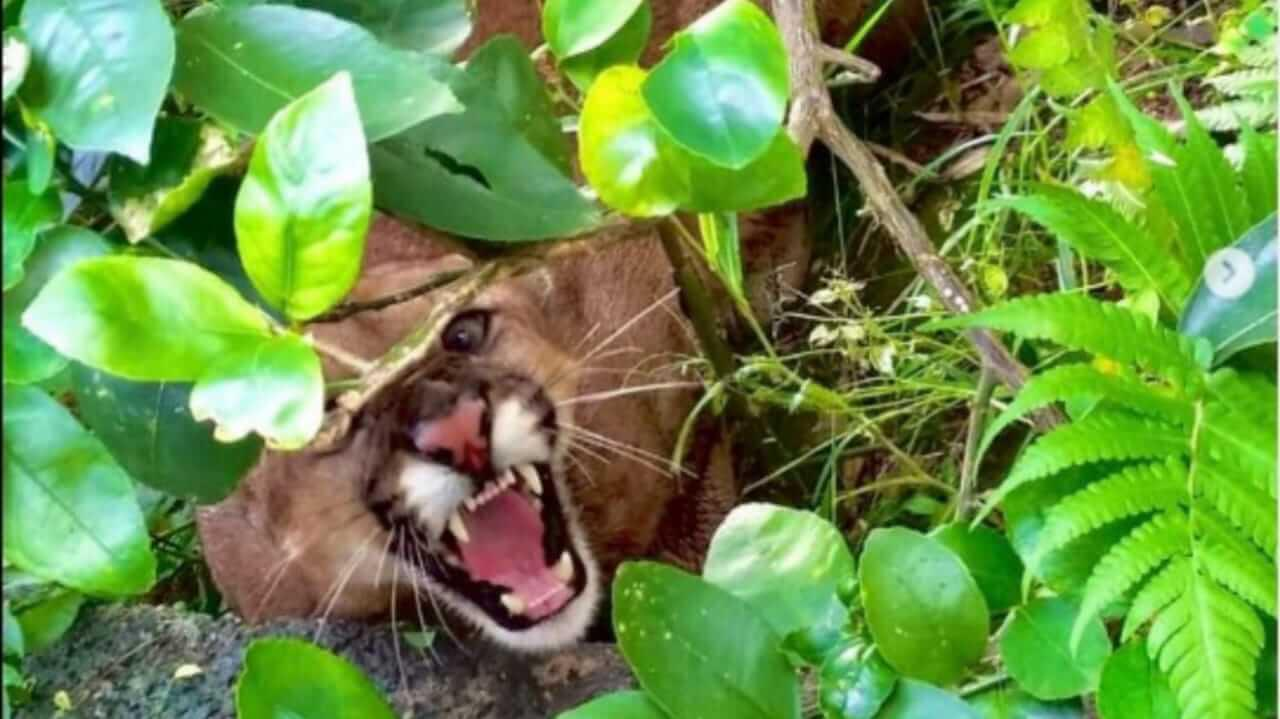OncaParda: (222, 41, 734, 626)
